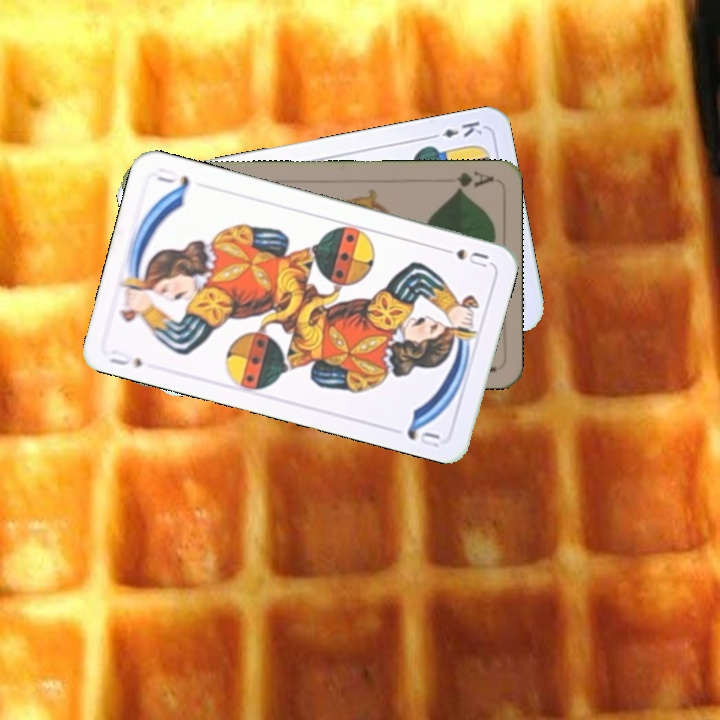EK: (425, 117, 485, 142)
GA: (452, 167, 496, 194)
SU: (435, 243, 491, 270), (105, 345, 145, 370)
